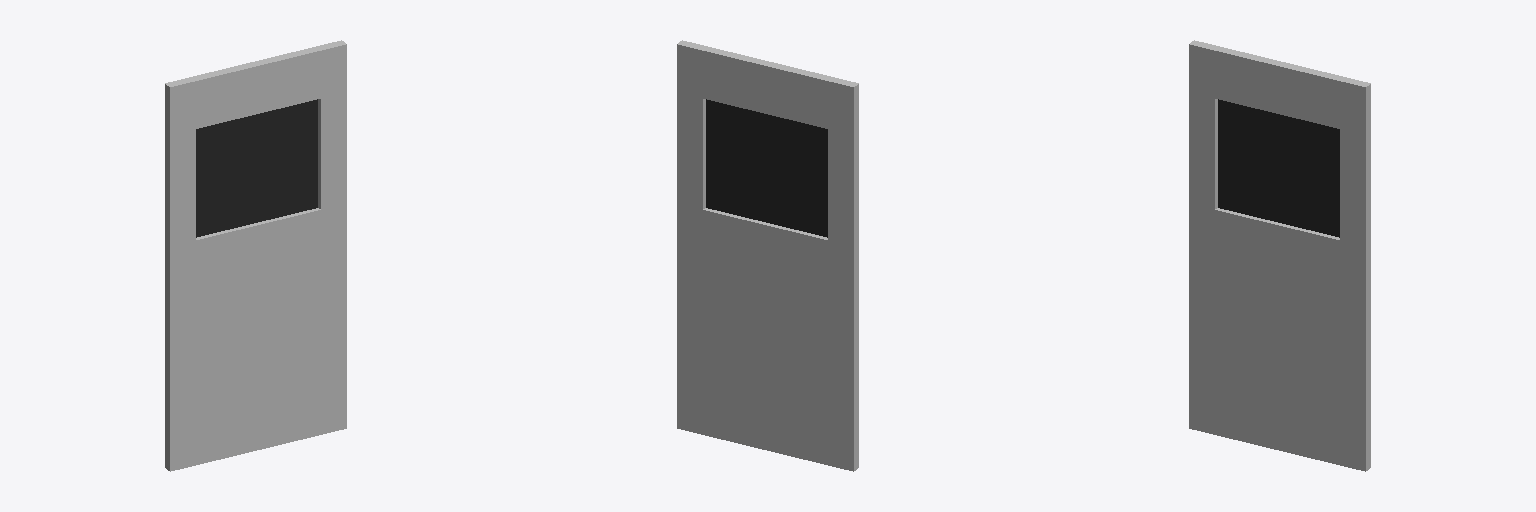
Rendered from door.obj.
3 views of the same model, side by side, from view 1: azimuth 30°, elevation 25°; view 2: azimuth 150°, elevation 25°; view 3: azimuth 330°, elevation 25° (orthographic).
Parts seen in each view (by area): view 1: Door_01_Window_A; view 2: Door_01_Window_A; view 3: Door_01_Window_A.
Part boxes in pixels (bbox=[...]): Door_01_Window_A: bbox=[165, 40, 346, 471]; Door_01_Window_A: bbox=[677, 40, 858, 471]; Door_01_Window_A: bbox=[1189, 40, 1370, 471].
Size of the model in its own units: 1.12 by 2.32 by 0.06.